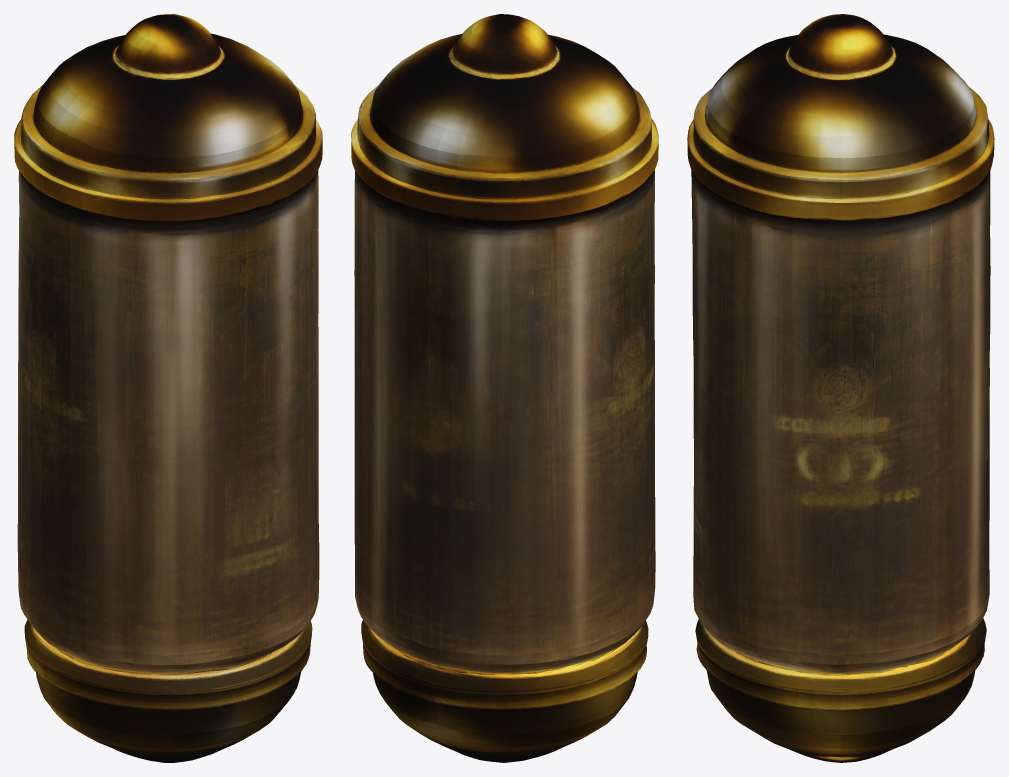
The model's file is sample.glb.
The picture shows the model from 3 angles, left to right: view 1: azimuth 30°, elevation 25°; view 2: azimuth 150°, elevation 25°; view 3: azimuth 270°, elevation 25°; orthographic projection.
Visible parts, largest first — view 1: world; view 2: world; view 3: world.
Part boxes in pixels (left/top/right/bottom): world: left=14, top=14, right=322, bottom=762; world: left=351, top=14, right=658, bottom=762; world: left=687, top=14, right=994, bottom=762.
Bounding box in the file's own units: 0.3798 × 1 × 0.3804.
1 material, 1 textured.
